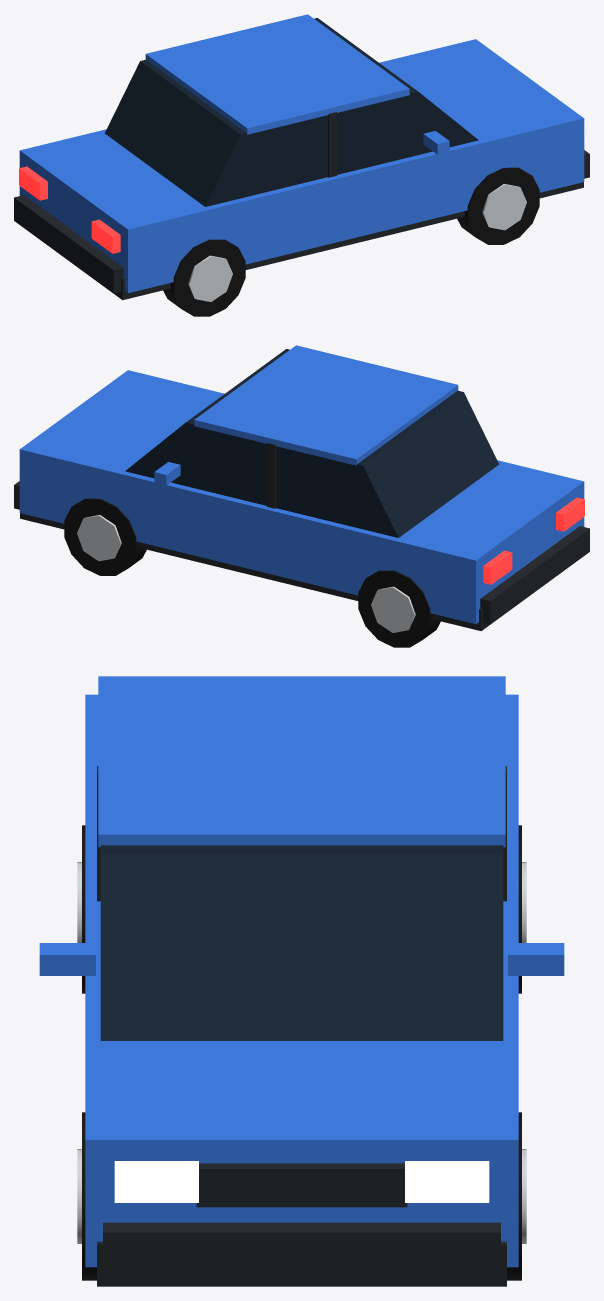
The model's file is sedan.glb.
3 renders of one model, top to bottom at view 1: azimuth 30°, elevation 25°; view 2: azimuth 150°, elevation 25°; view 3: azimuth 270°, elevation 25°, orthographic. The views are drawn at different scales.
Parts seen in each view (by area): view 1: Body, Cabin, Roof, Wheel (×2), Bumper, Skirt, Taillight (×2), Pillar, Sedan; view 2: Body, Cabin, Roof, Wheel (×2), Bumper, Skirt, Taillight (×2), Pillar, Sedan; view 3: Cabin, Body, Roof, Bumper, Grille, Headlight (×2), Wheel (×4), Sedan, Skirt.
Boxes of the visible parts, left/top/right/bottom form: Body: left=19, top=39, right=584, bottom=293; Cabin: left=104, top=18, right=478, bottom=206; Roof: left=145, top=14, right=409, bottom=134; Wheel (×2): left=163, top=167, right=539, bottom=316; Bumper: left=14, top=195, right=123, bottom=293; Skirt: left=114, top=182, right=583, bottom=300; Taillight (×2): left=19, top=166, right=120, bottom=253; Pillar: left=328, top=112, right=336, bottom=177; Sedan: left=423, top=131, right=449, bottom=154; Body: left=19, top=370, right=584, bottom=624; Cabin: left=125, top=349, right=499, bottom=537; Roof: left=194, top=345, right=458, bottom=465; Wheel (×2): left=64, top=498, right=440, bottom=647; Bumper: left=480, top=526, right=589, bottom=624; Skirt: left=20, top=513, right=489, bottom=631; Taillight (×2): left=483, top=497, right=584, bottom=584; Pillar: left=267, top=443, right=275, bottom=508; Sedan: left=154, top=462, right=180, bottom=485; Cabin: left=100, top=845, right=503, bottom=1040; Body: left=85, top=694, right=518, bottom=1267; Roof: left=98, top=676, right=505, bottom=847; Bumper: left=103, top=1222, right=500, bottom=1279; Grille: left=196, top=1163, right=407, bottom=1207; Headlight (×2): left=114, top=1161, right=489, bottom=1202; Wheel (×4): left=77, top=825, right=526, bottom=1280; Sedan: left=39, top=943, right=564, bottom=975; Skirt: left=97, top=1241, right=506, bottom=1286.
Bounding box in the file's own units: 4.7 × 1.65 × 2.24.
